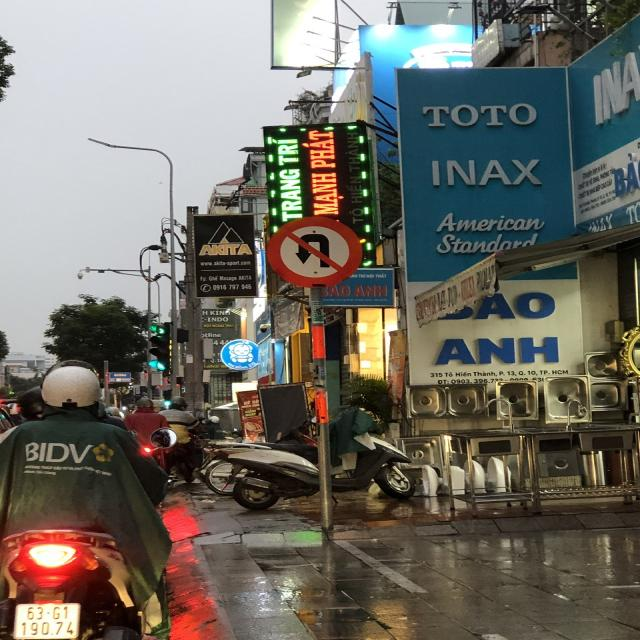Bien bao cam quay dau xe: (262, 214, 370, 291)
